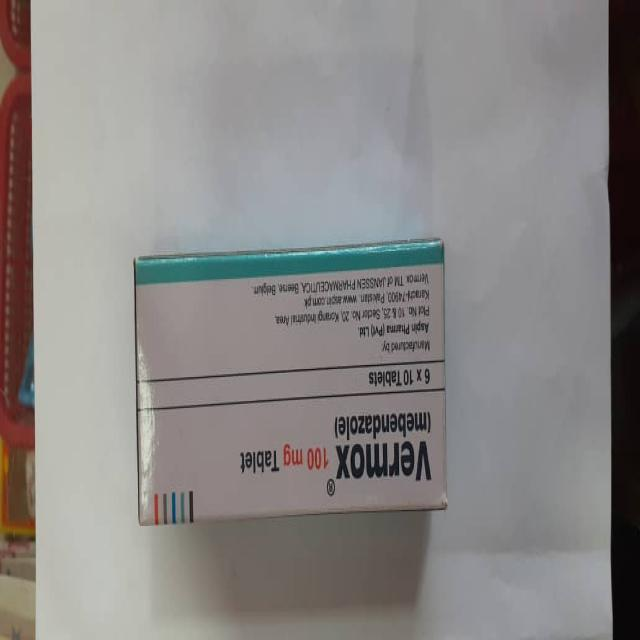drug-name: (334, 442, 431, 482)
